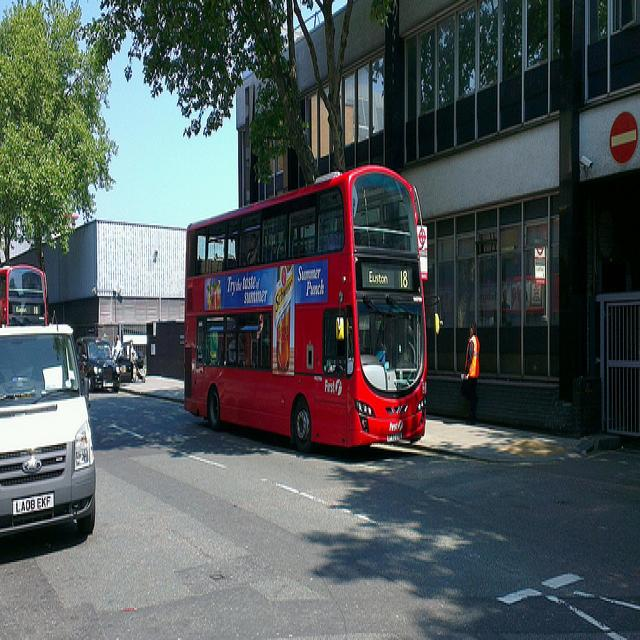Vehicle: (180, 168, 429, 450), (2, 322, 98, 542), (0, 268, 48, 324), (76, 337, 120, 392)
